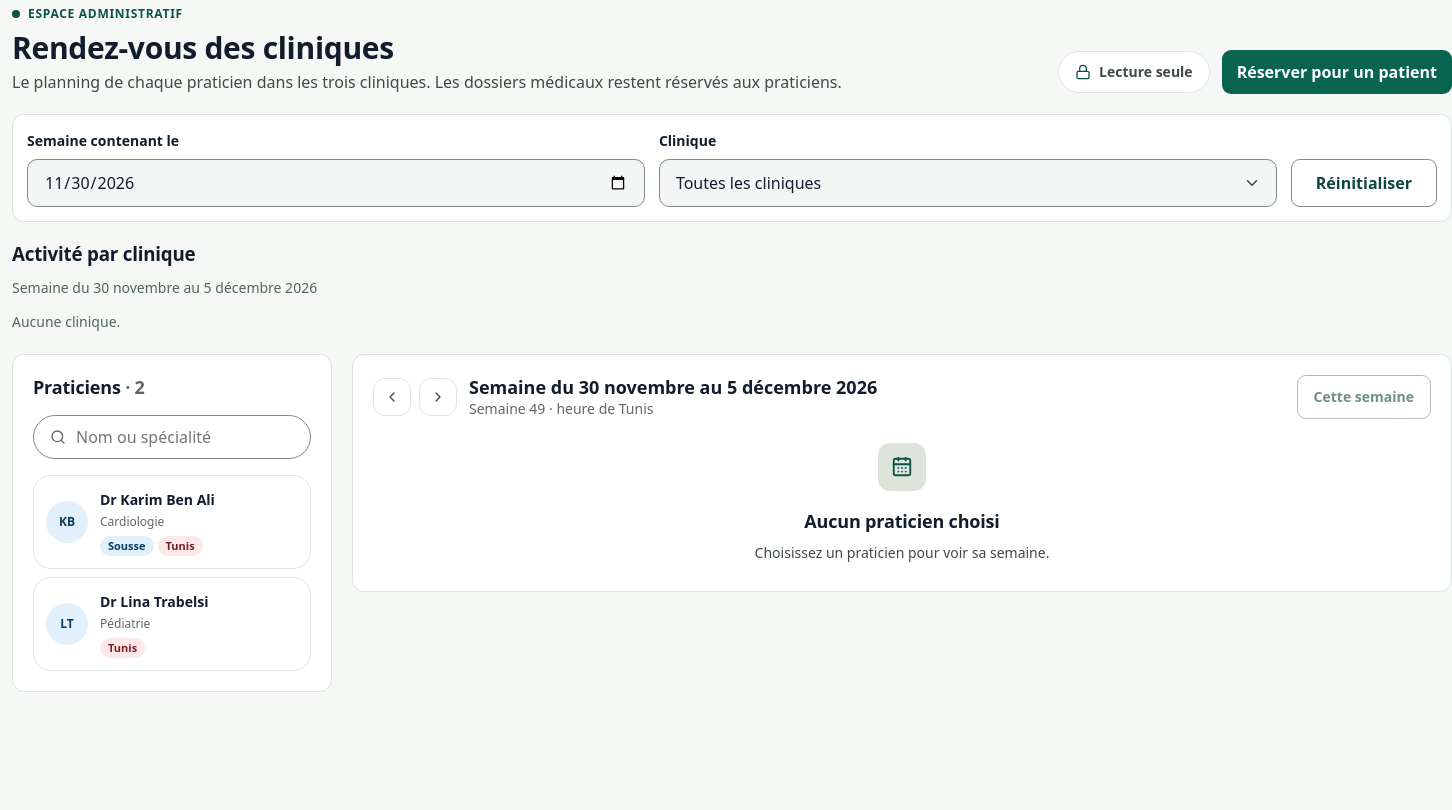
it: the search keeps the practitioners whose name or specialty matches, accents or not
Type "pediatrie" into the search field named "Rechercher un praticien".
click(184, 437); type("pediatrie")  # box [74,424,294,450]
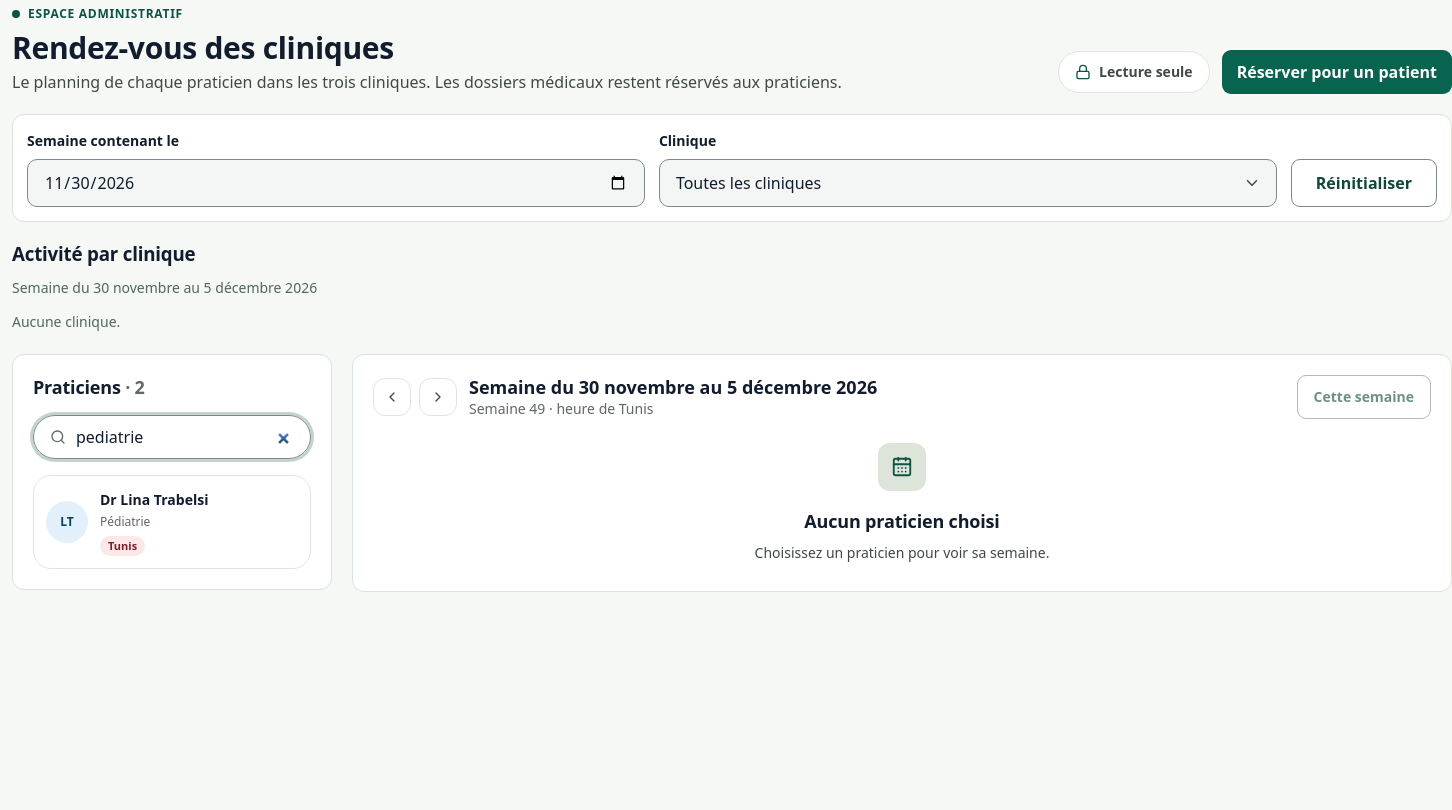
Replace the text in the search field named "Rechercher un praticien" with "personne" at (184, 437), box [74,424,294,450]
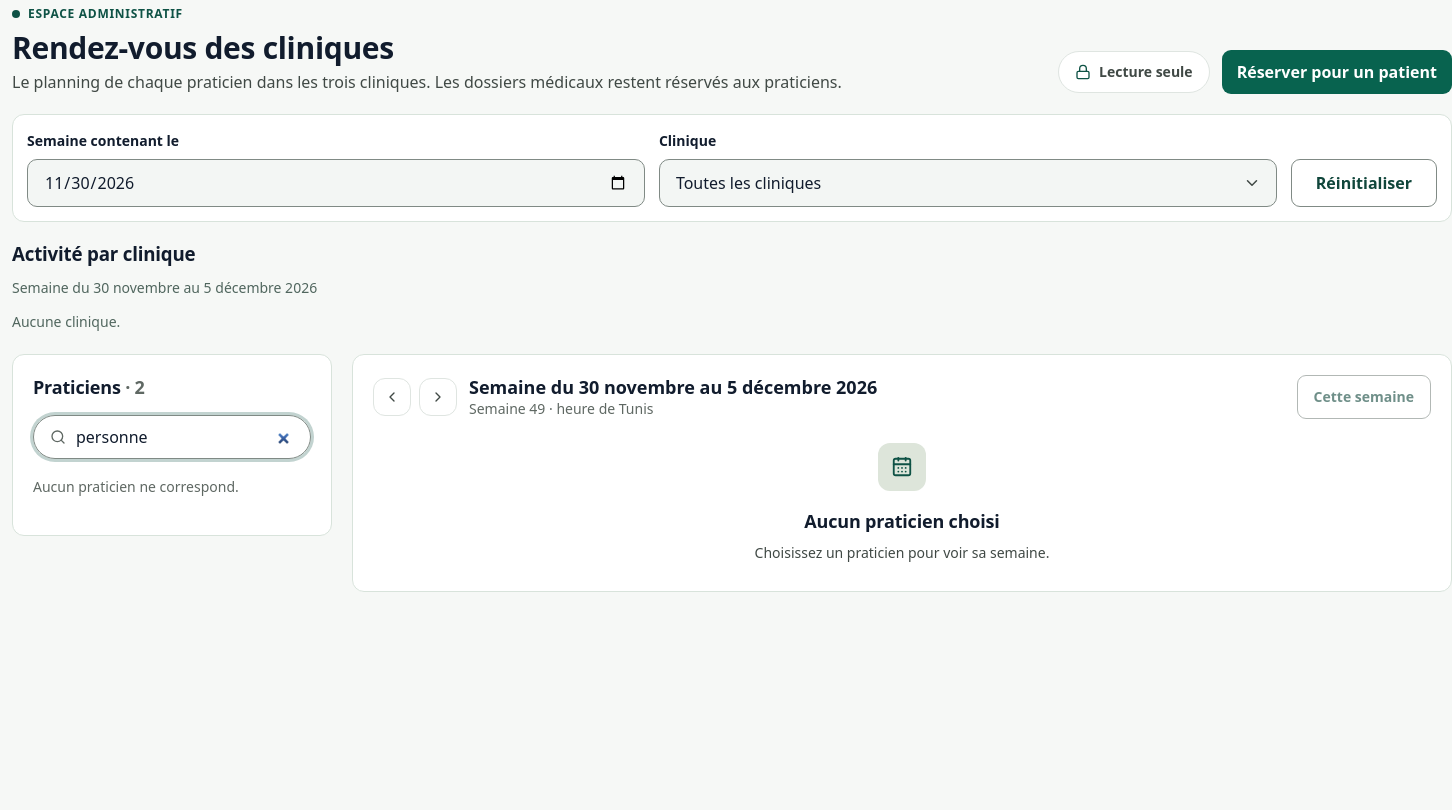
Check: the text "Aucun praticien ne correspond." is shown, box [33,477,239,496]
